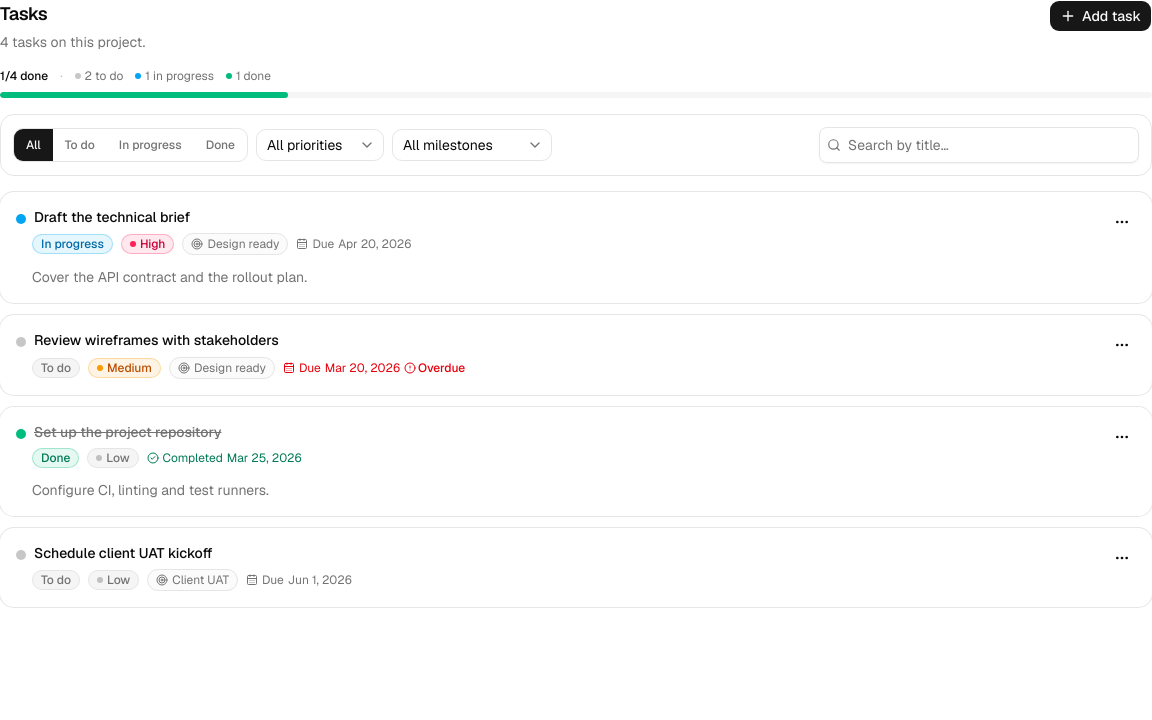
it: ProjectTasksSection › opens the create sheet when the Add button is clicked
Click the button "Add task" at [1100, 16], box [1049,0,1151,32]
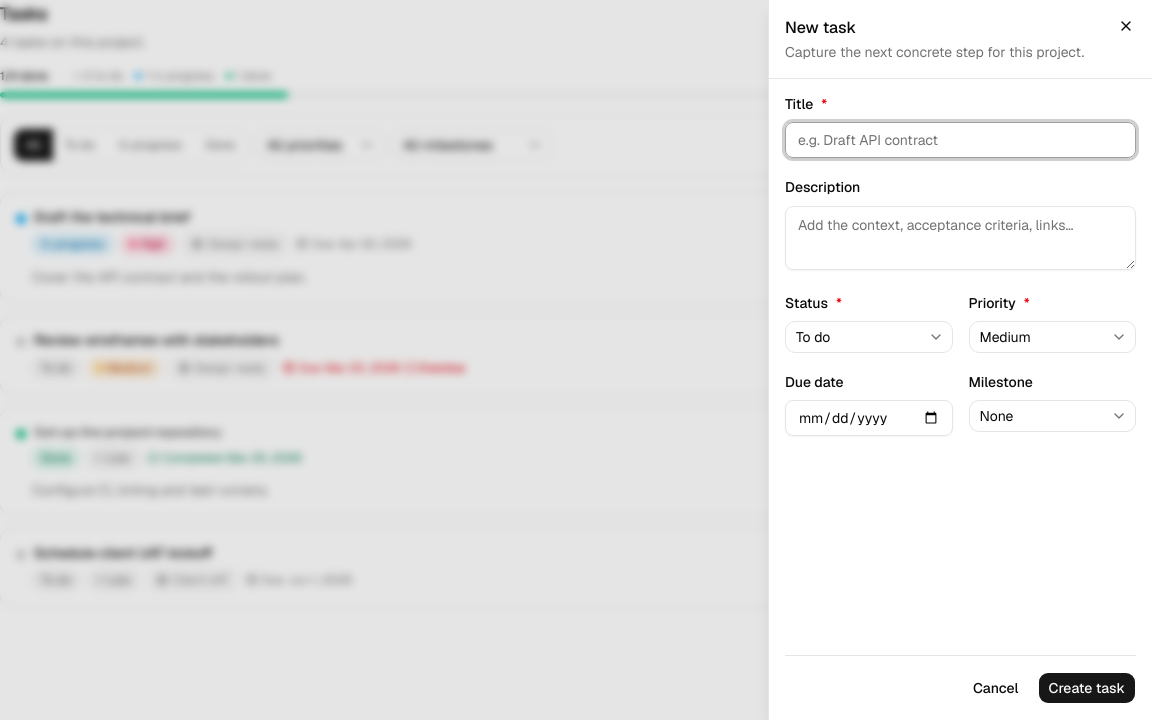
Now the form named "create task" is shown, box [769,79,1151,719]
